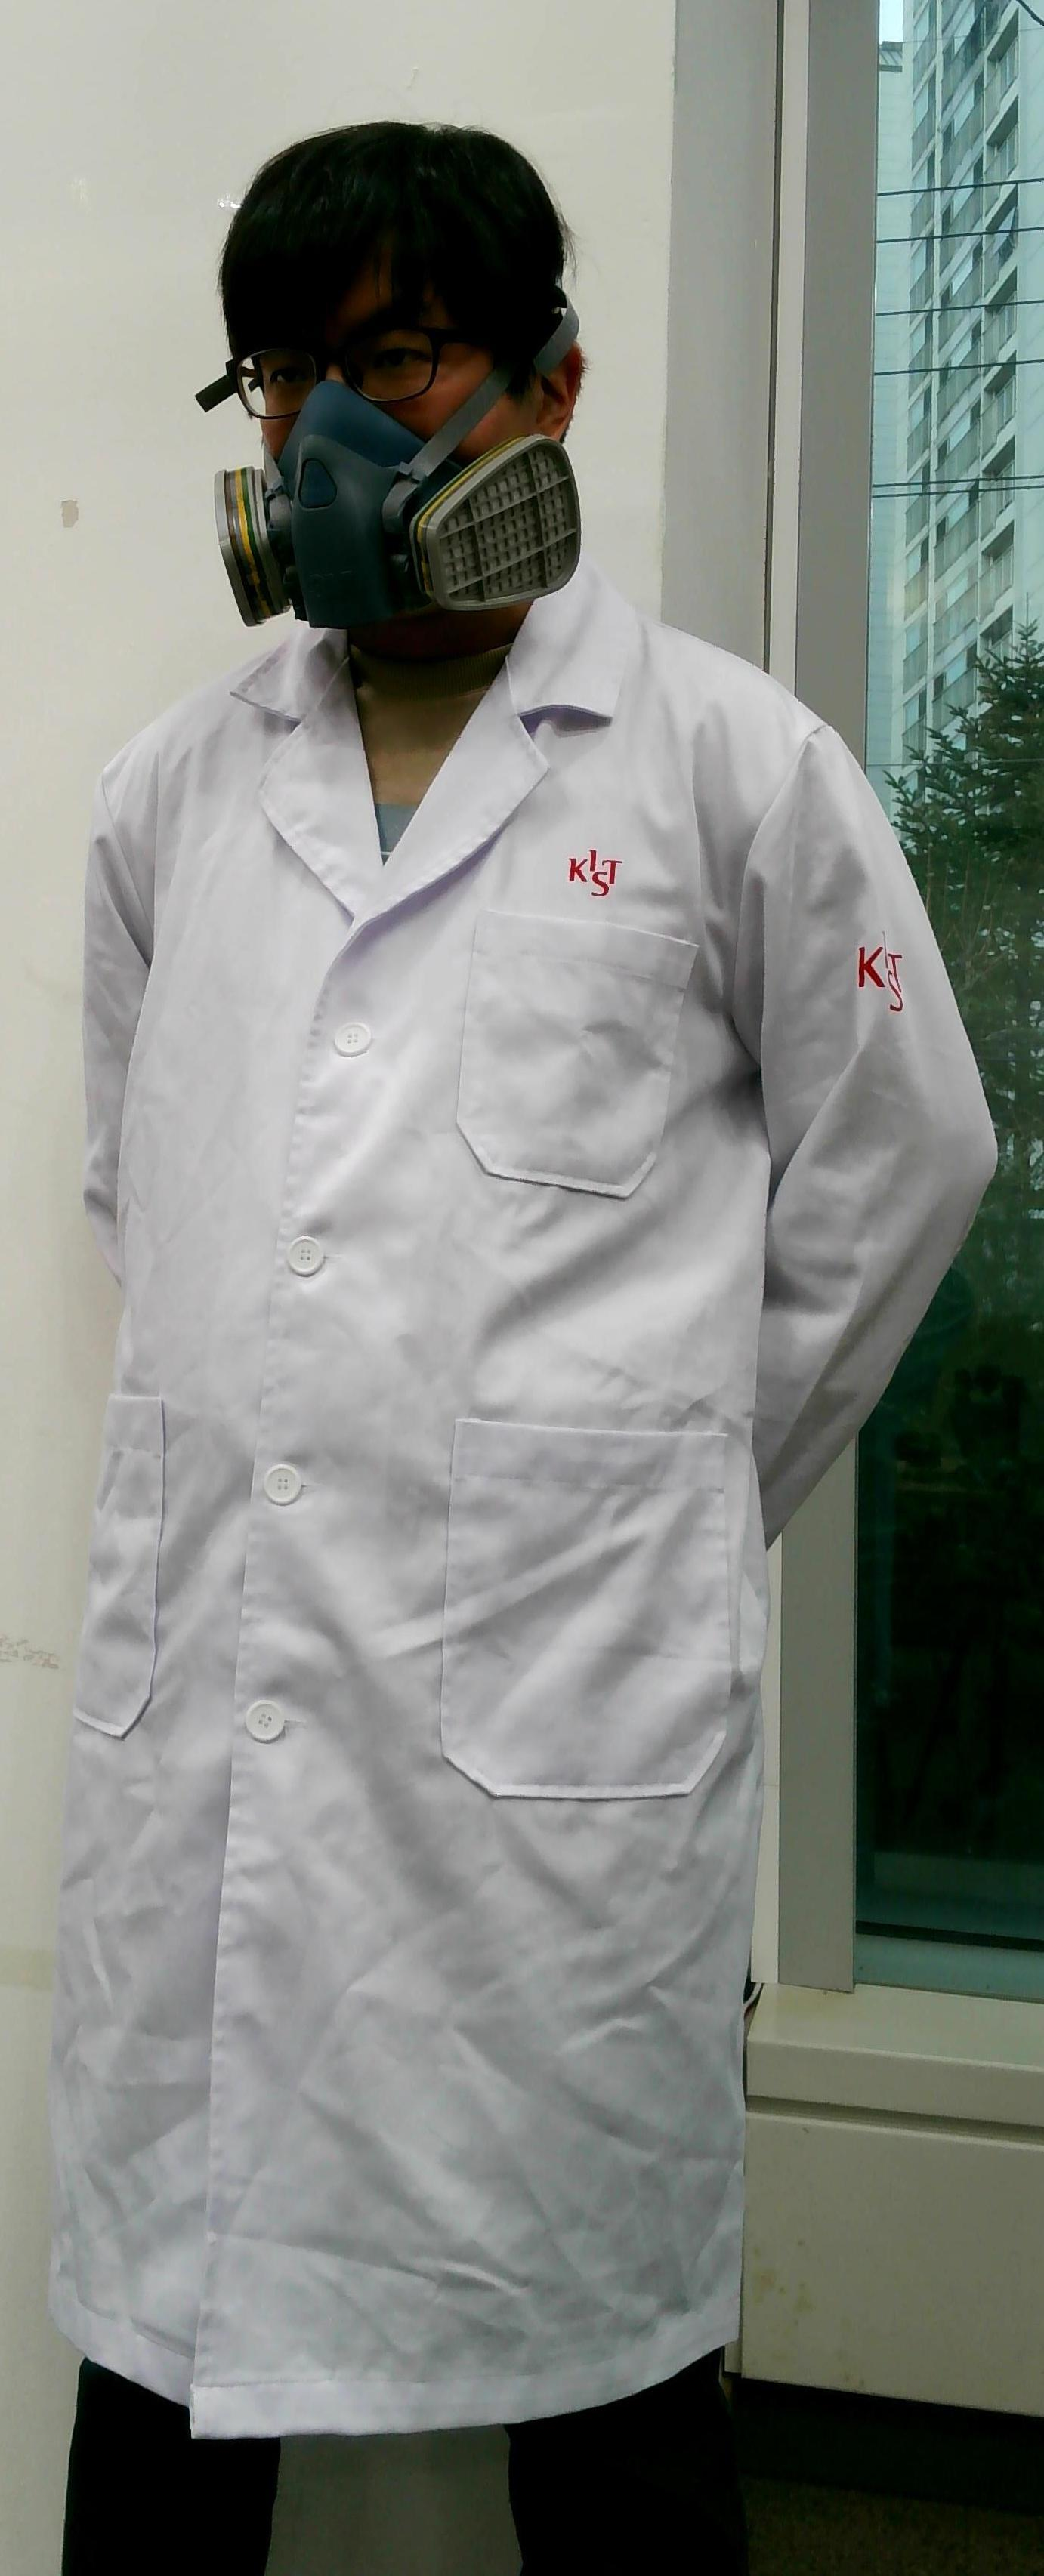lab_coat: (62, 665, 761, 2367)
